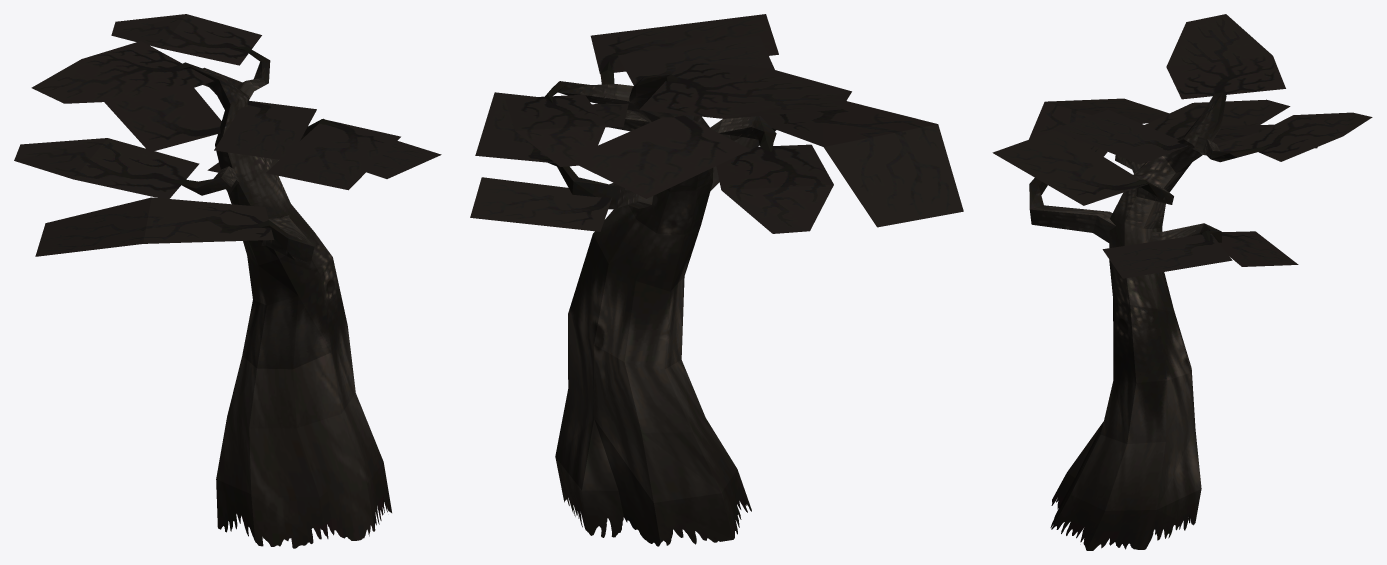
File: cherrytree_burnt_01.fbx
3 renders of one model, left to right at view 1: azimuth 30°, elevation 25°; view 2: azimuth 150°, elevation 25°; view 3: azimuth 270°, elevation 25°, orthographic. The views are drawn at different scales.
Visible parts, largest first — view 1: obj1.100; view 2: obj1.100; view 3: obj1.100.
Part boxes in pixels (x1,y1,x2,y2): obj1.100: (14, 14, 441, 548); obj1.100: (470, 14, 963, 546); obj1.100: (992, 14, 1372, 550).
Size of the model in its own units: 7.51 by 7.78 by 6.58.
